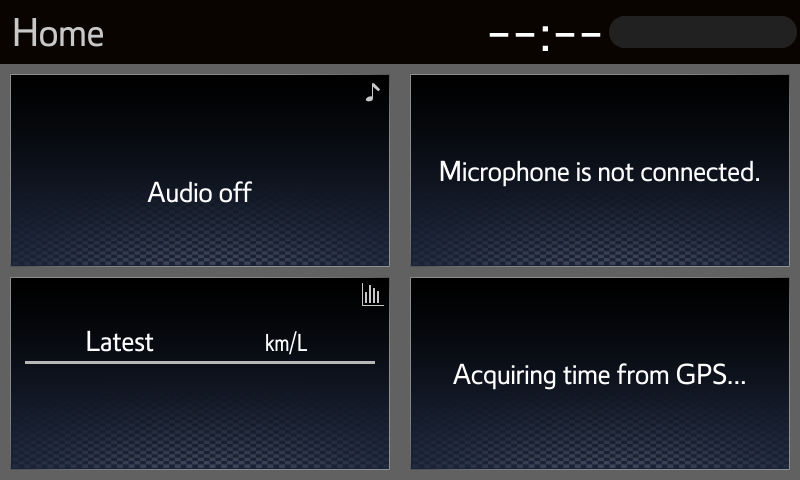touchPart: (8, 71, 392, 269), (409, 73, 792, 271), (409, 276, 791, 473), (9, 277, 392, 471)
untouchPart: (472, 12, 798, 54), (4, 11, 106, 51)
